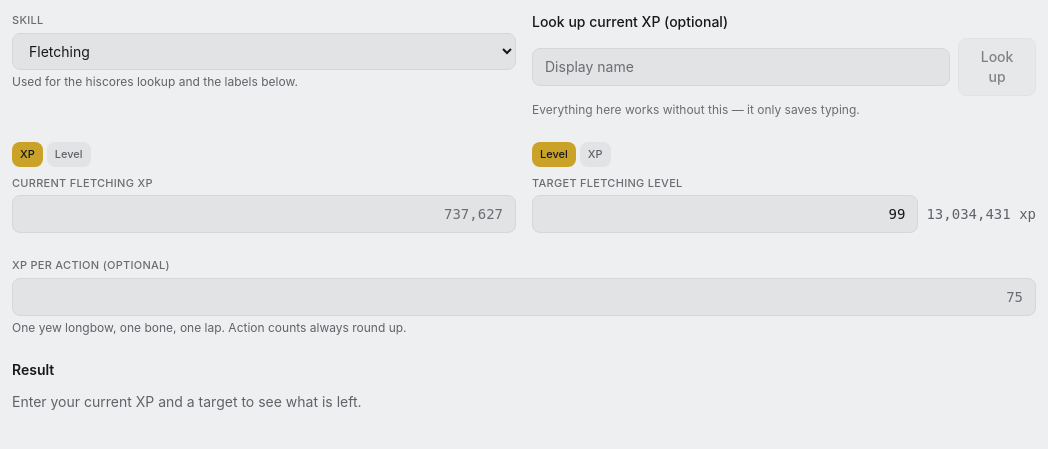
Scenario: XpCalculator › states plainly when a player is not on the hiscores
The width and height of the screenshot is (1048, 449).
Type "nobody" into the field labelled "Look up current XP (optional)". click: (741, 67)
box: x1=532 y1=48 x2=950 y2=86
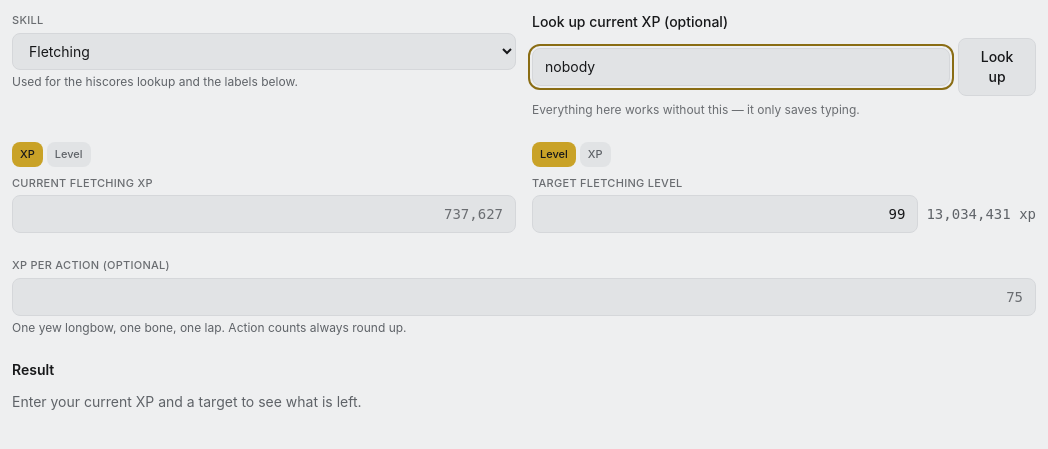
Click the button "Look up". click: (997, 67)
box: x1=958 y1=38 x2=1036 y2=96
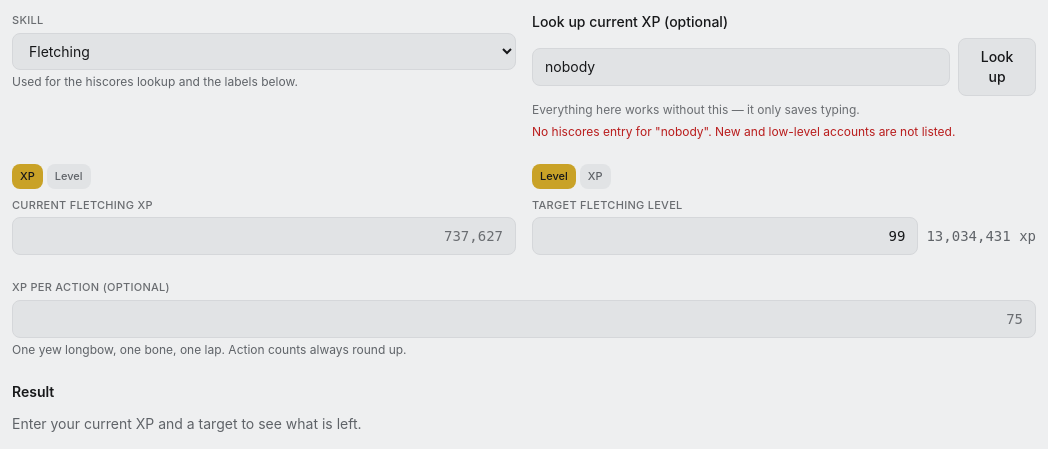
Expected: the message shows "No hiscores entry", x1=532 y1=124 x2=955 y2=139
